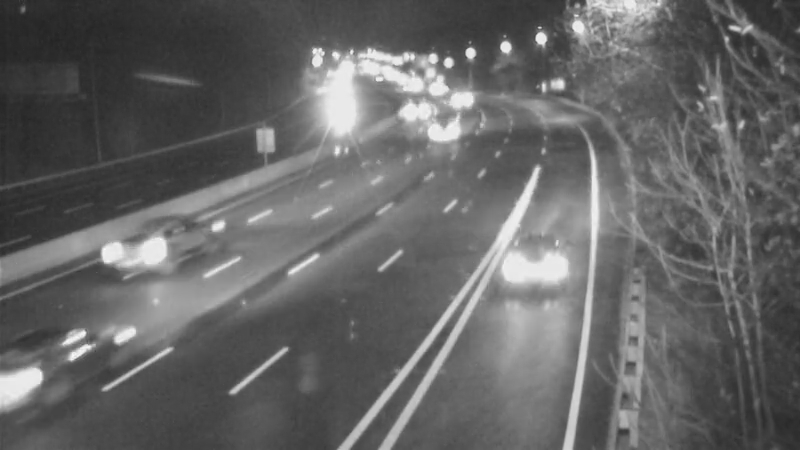vehicle: (1, 318, 97, 428), (485, 229, 565, 309), (94, 210, 174, 290), (412, 65, 462, 115), (436, 74, 486, 124), (390, 84, 440, 134), (413, 98, 463, 148)
